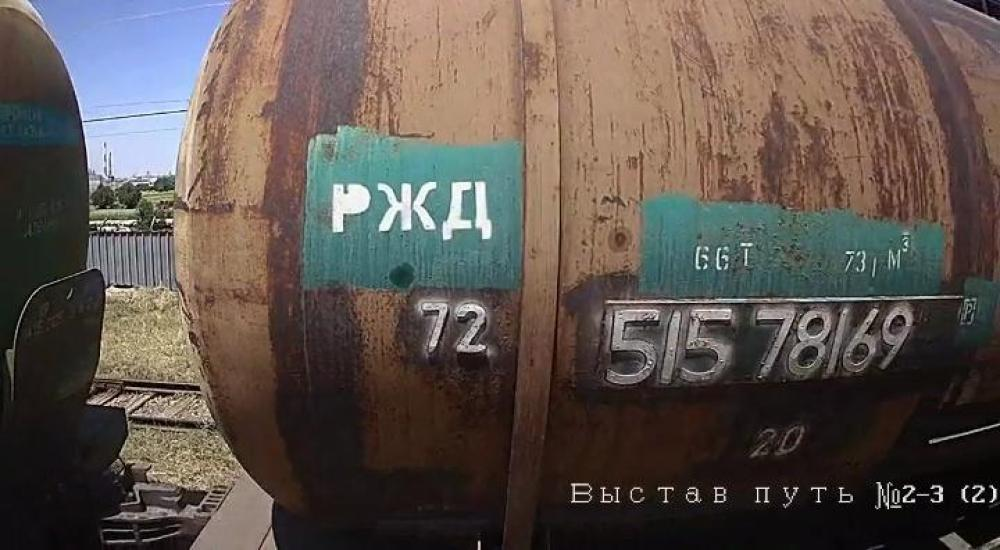Wagon-number: (600, 302, 919, 389)
